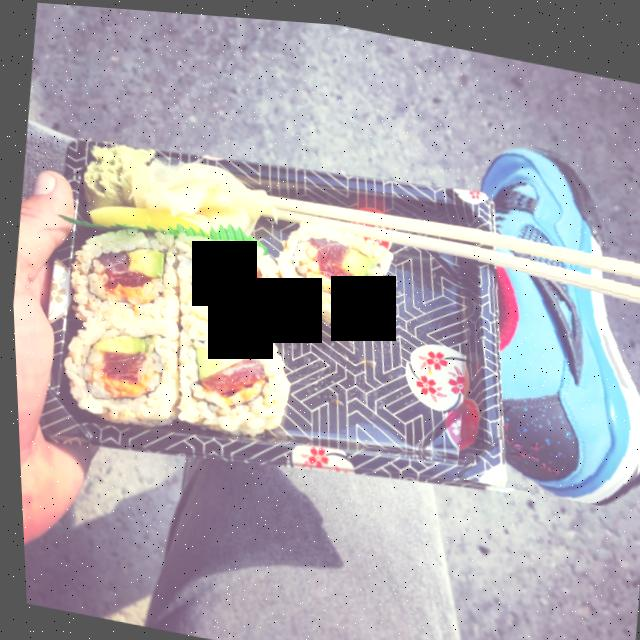shoe: (439, 125, 640, 505)
